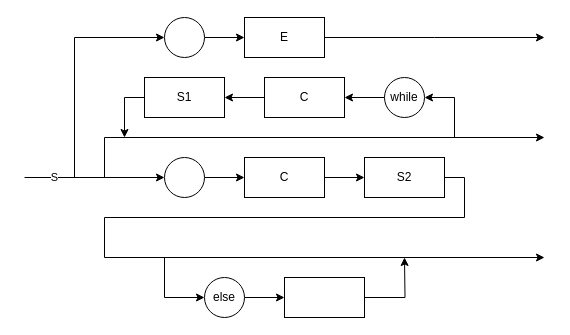
This 570x335 diagram has some shape labels left out. Here are the shapes that lost their labels. From the top down, the centre of each, then its label:
At point 184,37: "IDN".
At point 184,177: "if".
At point 324,297: "S3".
